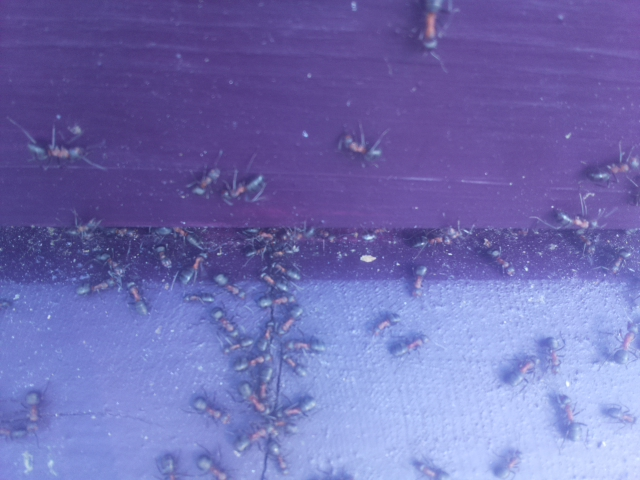ant: (229, 368, 296, 439), (225, 417, 297, 464), (327, 126, 390, 168), (211, 169, 274, 209), (581, 151, 640, 189), (202, 302, 250, 346), (547, 394, 590, 443), (183, 390, 237, 429), (182, 159, 228, 204), (21, 134, 85, 165), (477, 235, 517, 281), (416, 0, 450, 51), (399, 450, 455, 480), (190, 444, 235, 480), (231, 381, 274, 418), (206, 269, 250, 304), (19, 383, 46, 437), (612, 321, 640, 373), (177, 246, 208, 292), (149, 446, 190, 480), (125, 275, 152, 326), (502, 353, 542, 387), (548, 208, 599, 234), (485, 445, 522, 479), (283, 393, 319, 422), (255, 272, 293, 296), (408, 261, 432, 298), (541, 332, 561, 375), (279, 303, 304, 334)
